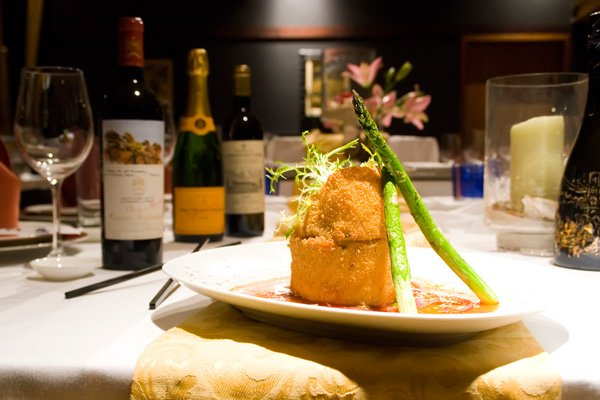pizza: (483, 70, 590, 256)
